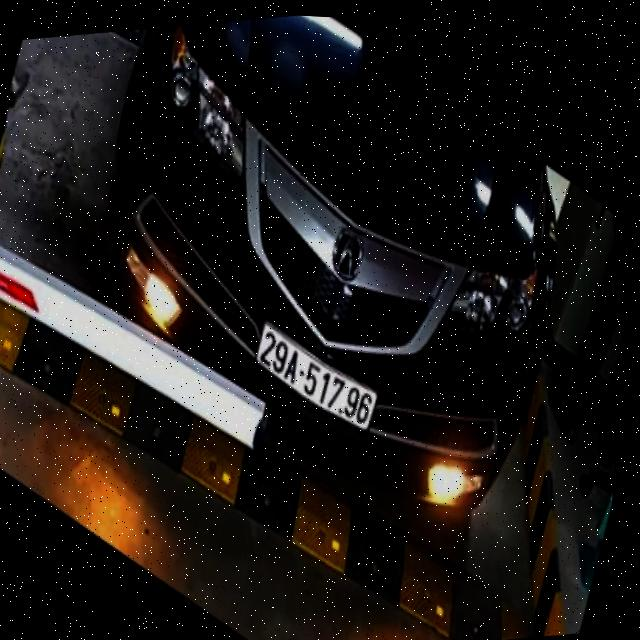car: (100, 15, 570, 529)
plate: (246, 314, 383, 437)
